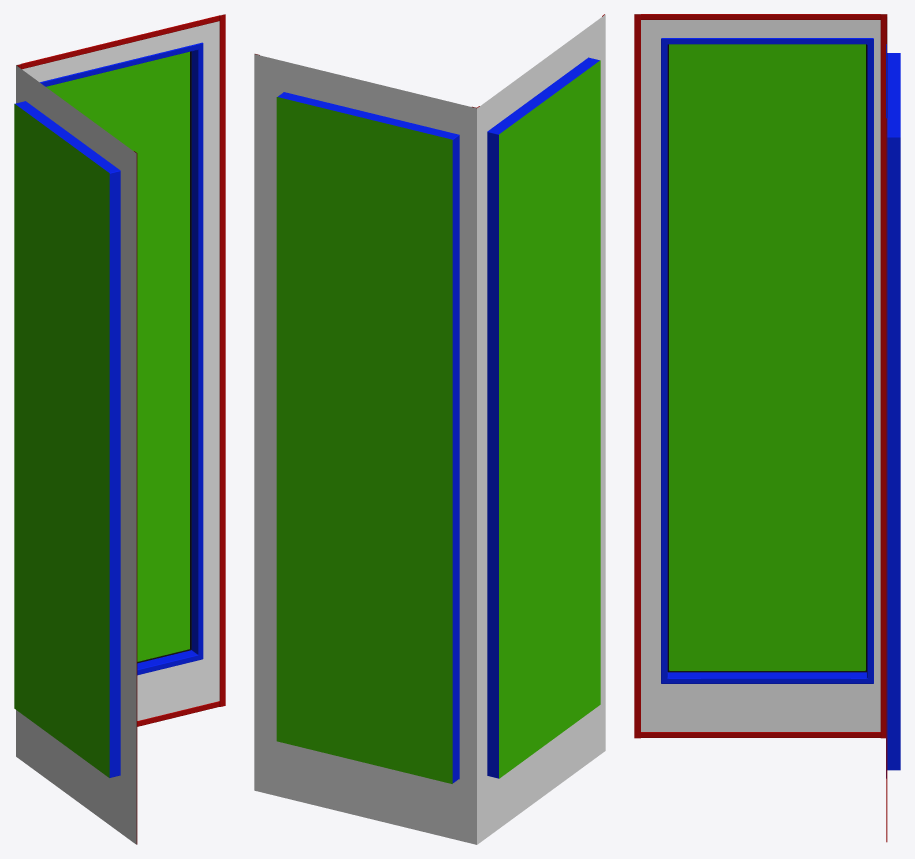
The model's file is Wall02Window02CornerInt.fbx.
The picture shows the model from 3 angles, left to right: view 1: azimuth 30°, elevation 25°; view 2: azimuth 150°, elevation 25°; view 3: azimuth 270°, elevation 25°; orthographic projection. The views are drawn at different scales.
Parts seen in each view (by area): view 1: Wall02Window02CornerInt; view 2: Wall02Window02CornerInt; view 3: Wall02Window02CornerInt.
Part boxes in pixels (box(x1,y1,x2,y2)): Wall02Window02CornerInt: box(14, 14, 225, 844); Wall02Window02CornerInt: box(254, 14, 605, 844); Wall02Window02CornerInt: box(634, 14, 900, 842).
Bounding box in the file's own units: 100 × 300 × 100.
